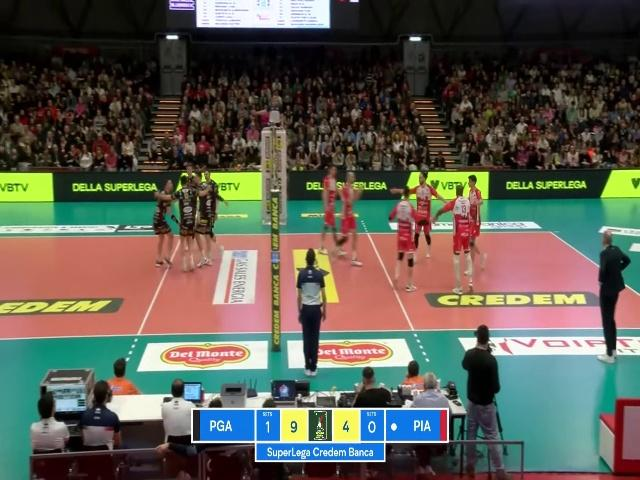volleyball court: (0, 227, 639, 336)
